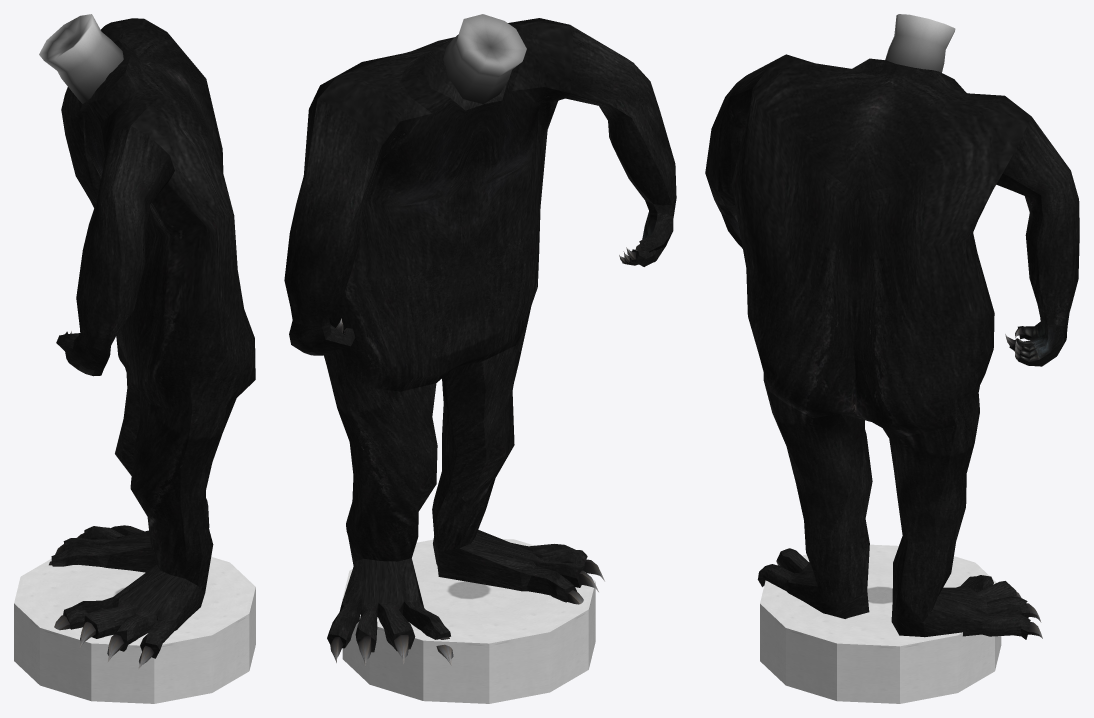
Rendered from GorillaCostume.fbx.
3 renders of one model, left to right at view 1: azimuth 30°, elevation 25°; view 2: azimuth 150°, elevation 25°; view 3: azimuth 270°, elevation 25°, orthographic. The views are drawn at different scales.
Parts seen in each view (by area): view 1: Gorilla_Costume, Platform; view 2: Gorilla_Costume, Platform; view 3: Gorilla_Costume, Platform.
Boxes of the visible parts, x1=… form: Gorilla_Costume: x1=39, y1=14, x2=255, y2=669; Platform: x1=14, y1=557, x2=255, y2=703; Gorilla_Costume: x1=284, y1=14, x2=676, y2=666; Platform: x1=342, y1=539, x2=595, y2=703; Gorilla_Costume: x1=705, y1=14, x2=1079, y2=639; Platform: x1=760, y1=544, x2=1001, y2=703.
Size of the model in its own units: 0.7767 by 1.86 by 1.01.
